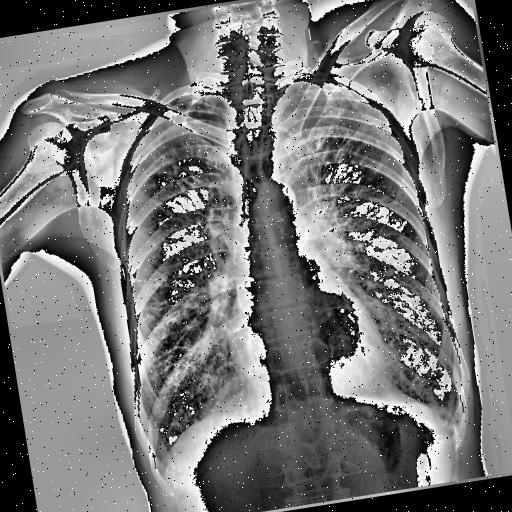13- Pulmonary fibrosis: (306, 102, 394, 208), (134, 119, 216, 203)
5- ILD: (90, 108, 272, 470), (276, 88, 462, 438), (296, 109, 460, 431), (114, 176, 260, 438), (122, 262, 246, 458), (356, 252, 465, 424)
6- Infiltration: (139, 129, 207, 197)
